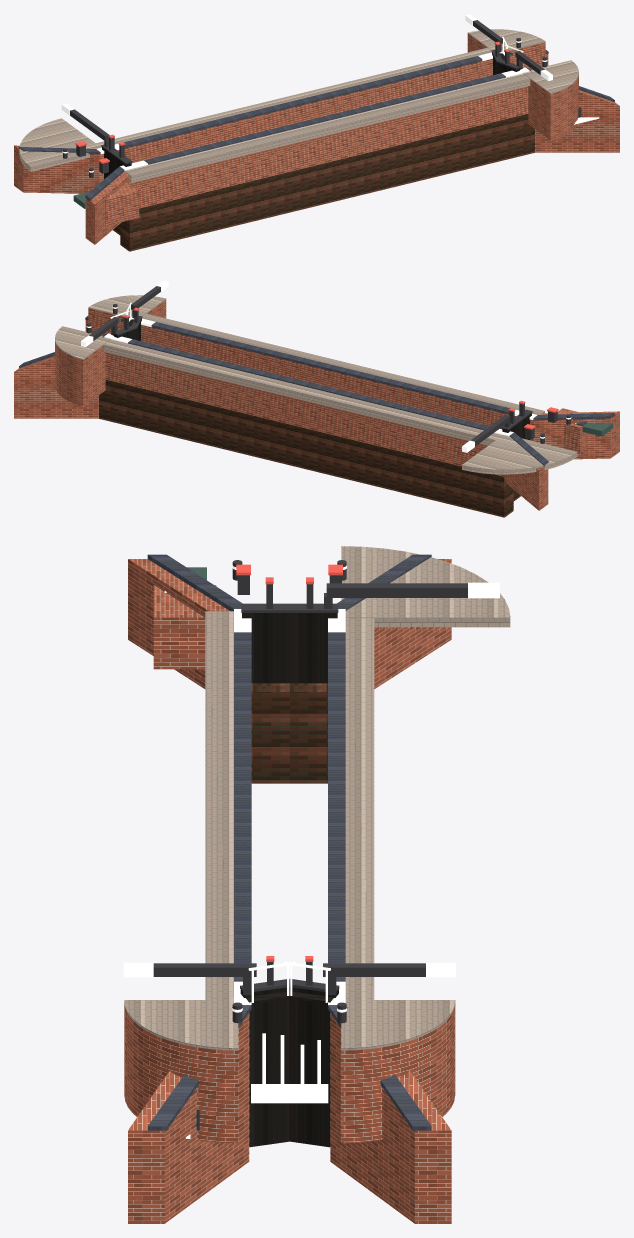
Rendered from lock-30.glb.
3 renders of one model, top to bottom at view 1: azimuth 30°, elevation 25°; view 2: azimuth 150°, elevation 25°; view 3: azimuth 270°, elevation 25°, orthographic. The views are drawn at different scales.
Visible parts, largest first — view 1: Chamber, ChamberWet, Edge, Coping.001, TopGateCap, Coping, TopGate; view 2: Chamber, ChamberWet, Edge, Coping.001, TopGateCap, Coping, TopGate; view 3: Chamber, Edge, Coping.001, TopGate, TopGateCap, ChamberWet, Coping, Leak.
Part boxes in pixels (left/top/right/bottom): Chamber: left=14, top=34, right=619, bottom=244; ChamberWet: left=113, top=113, right=534, bottom=251; Edge: left=19, top=29, right=578, bottom=182; Coping.001: left=19, top=50, right=614, bottom=200; TopGateCap: left=63, top=20, right=581, bottom=177; Coping: left=61, top=14, right=552, bottom=172; TopGate: left=102, top=53, right=522, bottom=178; Chamber: left=14, top=300, right=619, bottom=510; ChamberWet: left=99, top=379, right=520, bottom=517; Edge: left=55, top=295, right=577, bottom=474; Coping.001: left=19, top=316, right=614, bottom=466; TopGateCap: left=86, top=286, right=570, bottom=446; Coping: left=81, top=280, right=571, bottom=452; TopGate: left=111, top=319, right=531, bottom=440; Chamber: left=124, top=559, right=455, bottom=1223; Edge: left=124, top=546, right=510, bottom=1050; Coping.001: left=147, top=554, right=431, bottom=1130; TopGate: left=240, top=613, right=338, bottom=1147; TopGateCap: left=153, top=560, right=467, bottom=1130; ChamberWet: left=251, top=683, right=327, bottom=783; Coping: left=123, top=565, right=499, bottom=1012; Leak: left=164, top=591, right=328, bottom=1138.
Bounding box in the file's own units: 33.65 × 5.78 × 10.52.
11 materials, 8 textured.
